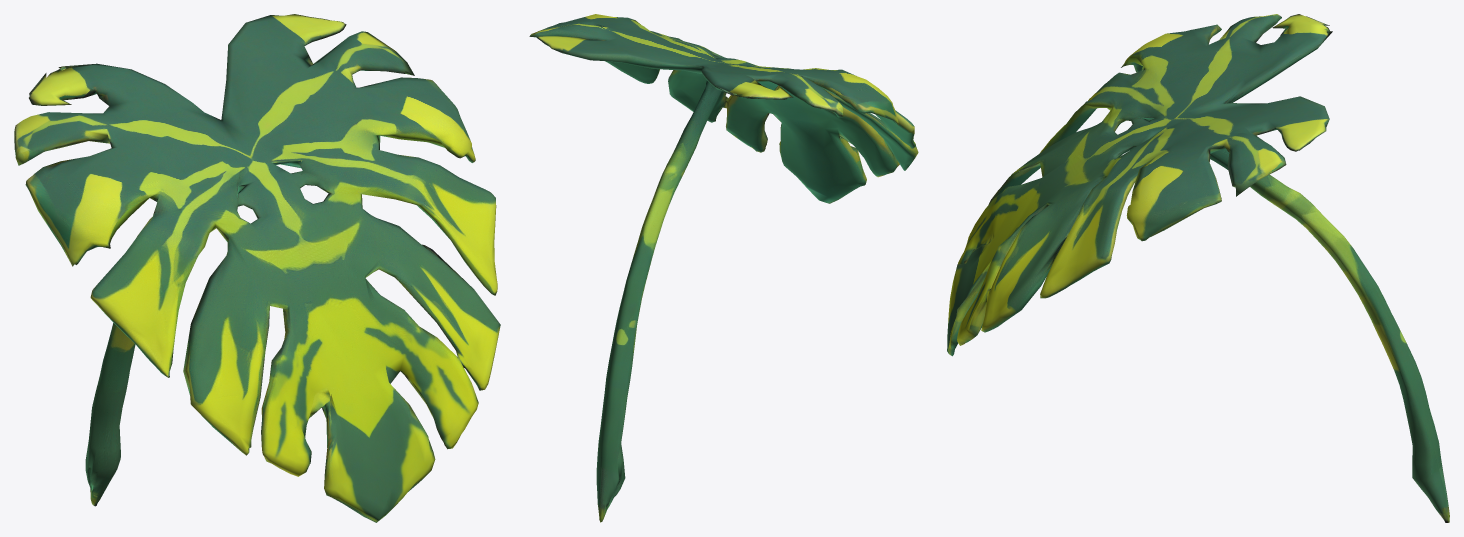
The model's file is mon_green_yellow.glb.
The picture shows the model from 3 angles, left to right: view 1: azimuth 30°, elevation 25°; view 2: azimuth 150°, elevation 25°; view 3: azimuth 270°, elevation 25°; orthographic projection. The views are drawn at different scales.
Bounding box in the file's own units: 1.68 × 1.98 × 2.
Materials: 1 (1 with a texture image).
